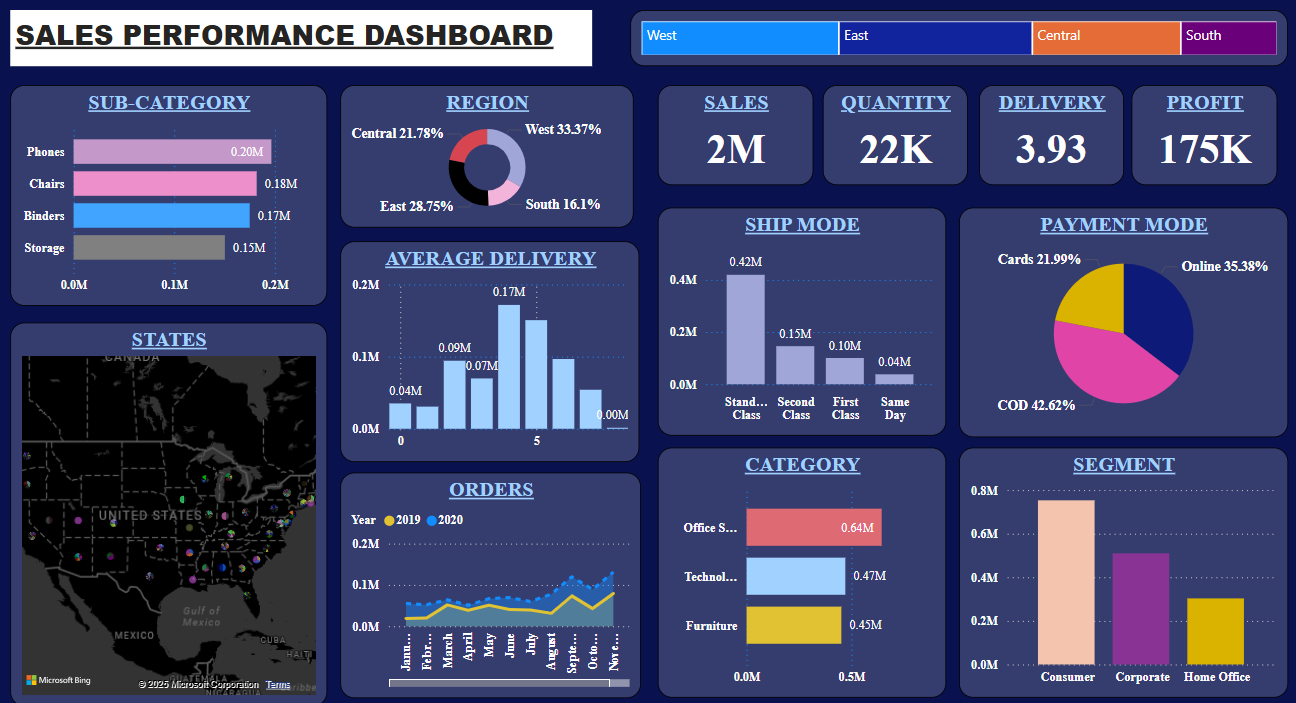

The page's visual inventory and layout, read from the dashboard file:
{"tool":"powerbi","page":{"name":"Page 1","canvas":[1280,720],"ordinal":0},"visuals":[{"type":"clusteredBarChart","title":"CATEGORY","fields":{"Y":["Sum(SuperStore_Sales_Dataset.Sales)"],"Category":["SuperStore_Sales_Dataset.Category"]},"box":[651.4,454.3,282.9,245.7],"z":0},{"type":"barChart","title":"SUB-CATEGORY","fields":{"Category":["SuperStore_Sales_Dataset.Sub-Category"],"Y":["Sum(SuperStore_Sales_Dataset.Sales)"]},"box":[15.7,97.6,310.8,216.9],"z":1000},{"type":"clusteredColumnChart","title":"SHIP MODE","fields":{"Category":["SuperStore_Sales_Dataset.Ship Mode"],"Y":["Sum(SuperStore_Sales_Dataset.Sales)"]},"box":[651.4,218.6,282.9,224.3],"z":2000},{"type":"areaChart","title":"ORDERS","fields":{"Y":["Sum(SuperStore_Sales_Dataset.Sales)"],"Series":["SuperStore_Sales_Dataset.Order Date.Variation.Date Hierarchy.Year"],"Category":["SuperStore_Sales_Dataset.Order Date.Variation.Date Hierarchy.Month","SuperStore_Sales_Dataset.Order Date.Variation.Date Hierarchy.Day"]},"box":[339.8,478.3,295.2,221.7],"z":3000},{"type":"map","title":" STATES","fields":{"Series":["SuperStore_Sales_Dataset.Sales"],"Category":["SuperStore_Sales_Dataset.State"]},"box":[15.7,331.3,310.8,377.1],"z":4000},{"type":"columnChart","title":"SEGMENT","fields":{"Category":["SuperStore_Sales_Dataset.Segment"],"Y":["Sum(SuperStore_Sales_Dataset.Sales)"]},"box":[947,454.2,322.9,245.8],"z":5000},{"type":"pieChart","title":"PAYMENT MODE","fields":{"Y":["Sum(SuperStore_Sales_Dataset.Sales)"],"Category":["SuperStore_Sales_Dataset.Payment Mode"]},"box":[947,218.1,322.9,225.3],"z":6000},{"type":"textbox","box":[15.7,24.1,571.1,55.4],"z":7000},{"type":"card","title":"SALES","fields":{"Values":["Sum(SuperStore_Sales_Dataset.Sales)"]},"box":[651.8,97.6,153,98.8],"z":8000},{"type":"card","title":"PROFIT","fields":{"Values":["Sum(SuperStore_Sales_Dataset.Profit)"]},"box":[1116.9,97.6,143.4,98.8],"z":9000},{"type":"card","title":"QUANTITY","fields":{"Values":["Sum(SuperStore_Sales_Dataset.Quantity)"]},"box":[813.3,97.6,142.2,98.8],"z":10000},{"type":"card","title":"DELIVERY","fields":{"Values":["Avg(SuperStore_Sales_Dataset.AVERAGEDELIVERY)"]},"box":[966.3,97.6,142.2,98.8],"z":11000},{"type":"columnChart","title":"AVERAGE DELIVERY","fields":{"Category":["SuperStore_Sales_Dataset.AVERAGEDELIVERY"],"Y":["Sum(SuperStore_Sales_Dataset.Sales)"]},"box":[339.8,251.8,294,216.9],"z":12000},{"type":"treemap","title":"SHIP MODE","fields":{"Group":["SuperStore_Sales_Dataset.Region"],"Values":["Sum(SuperStore_Sales_Dataset.Sales)"]},"box":[624.1,24.1,645.8,55.4],"z":13000},{"type":"donutChart","title":"REGION","fields":{"Y":["Sum(SuperStore_Sales_Dataset.Sales)"],"Category":["SuperStore_Sales_Dataset.Region"]},"box":[339.8,97.6,288,139.8],"z":14000}]}

Visuals, with their boxes on the page's 1280x720 design canvas (x1, y1, x2, y2). These are canvas units, not pixel positions in the 1296x703 screenshot, which may show the page scaled, cropped or inside an application window:
"CATEGORY" clusteredBarChart: locate(651, 454, 934, 700)
"SUB-CATEGORY" barChart: locate(16, 98, 326, 314)
"SHIP MODE" clusteredColumnChart: locate(651, 219, 934, 443)
"ORDERS" areaChart: locate(340, 478, 635, 700)
" STATES" map: locate(16, 331, 326, 708)
"SEGMENT" columnChart: locate(947, 454, 1270, 700)
"PAYMENT MODE" pieChart: locate(947, 218, 1270, 443)
textbox: locate(16, 24, 587, 80)
"SALES" card: locate(652, 98, 805, 196)
"PROFIT" card: locate(1117, 98, 1260, 196)
"QUANTITY" card: locate(813, 98, 956, 196)
"DELIVERY" card: locate(966, 98, 1108, 196)
"AVERAGE DELIVERY" columnChart: locate(340, 252, 634, 469)
"SHIP MODE" treemap: locate(624, 24, 1270, 80)
"REGION" donutChart: locate(340, 98, 628, 237)
